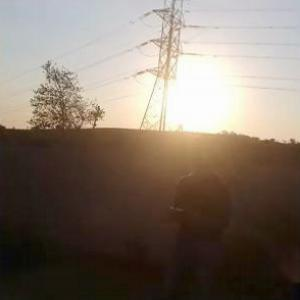follow: (161, 134, 235, 299)
